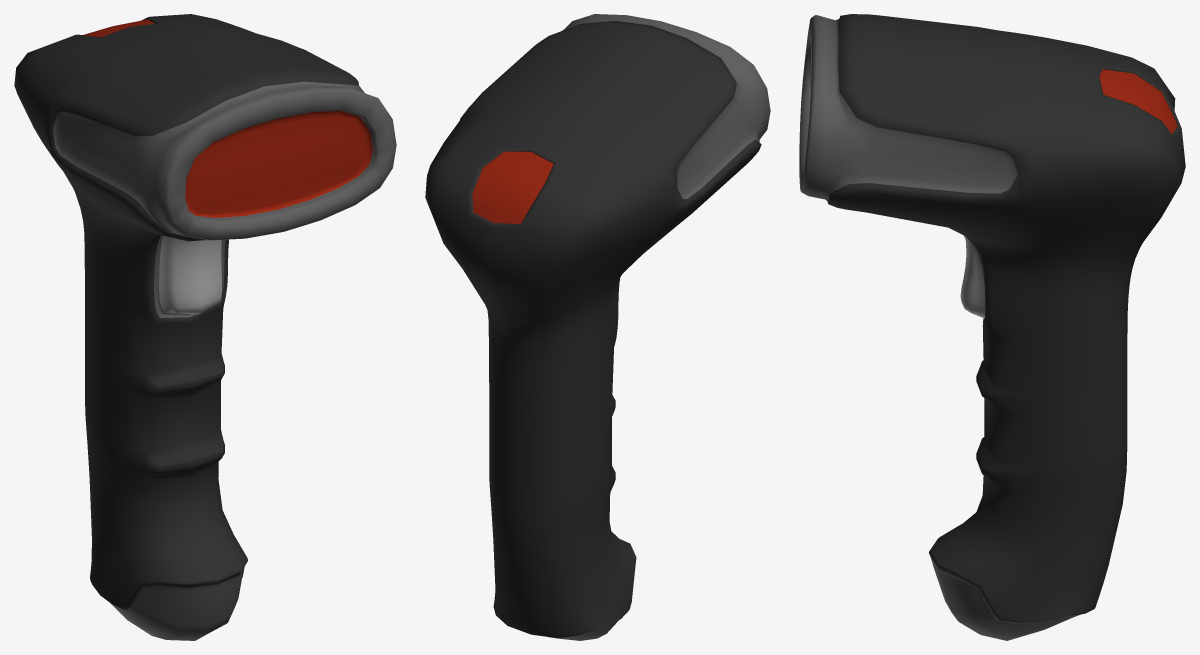
The model's file is hand_scanner.glb.
The picture shows the model from 3 angles, left to right: view 1: azimuth 30°, elevation 25°; view 2: azimuth 150°, elevation 25°; view 3: azimuth 270°, elevation 25°; orthographic projection. The views are drawn at different scales.
Visible parts, largest first — view 1: hand_scanner; view 2: hand_scanner; view 3: hand_scanner.
Part boxes in pixels (left/top/right/bottom): hand_scanner: left=14, top=14, right=396, bottom=640; hand_scanner: left=425, top=14, right=770, bottom=640; hand_scanner: left=799, top=14, right=1185, bottom=640.
Size of the model in its own units: 0.1478 by 0.345 by 0.2015.
Materials: 2 (2 with a texture image).
